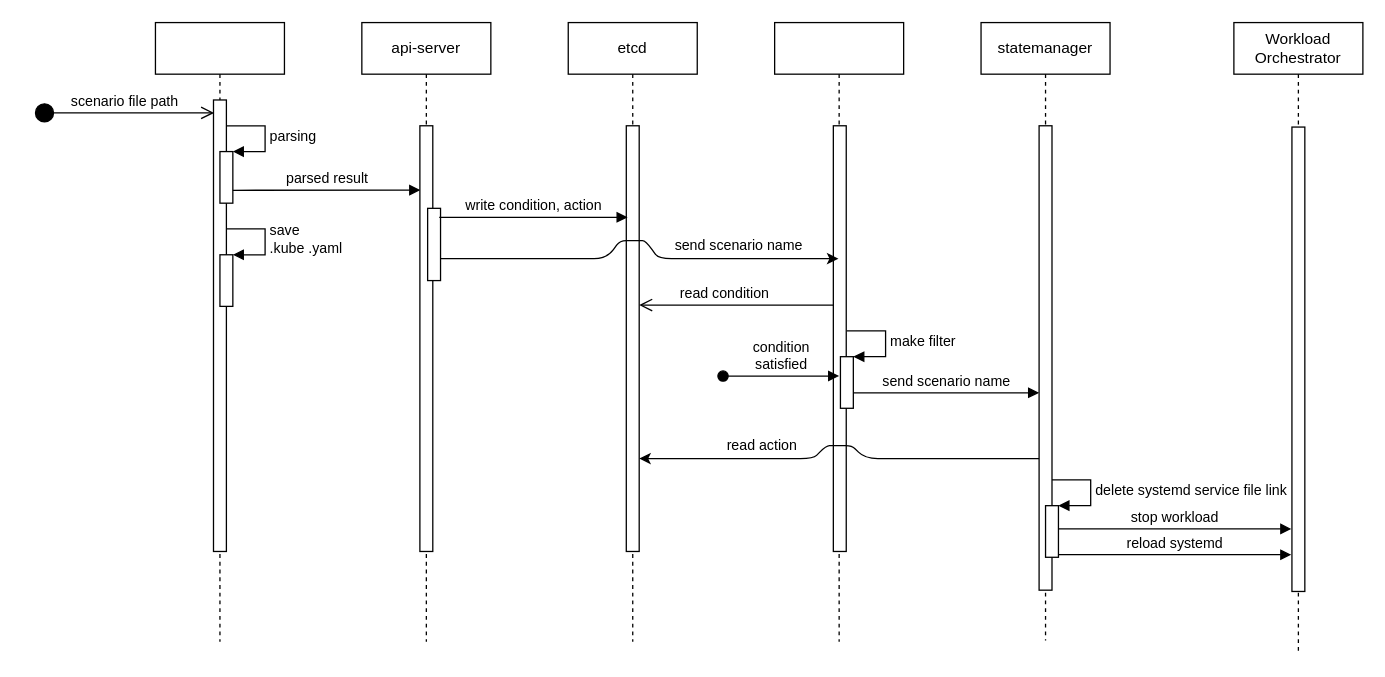
The diagram is 1385 pixels wide and 677 high, and some of its shapes have lost their labels. Here are the shapes that lost their labels. From the top down, the centre of each, then its label:
point 219,331: yamlparser
point 838,331: gateway
